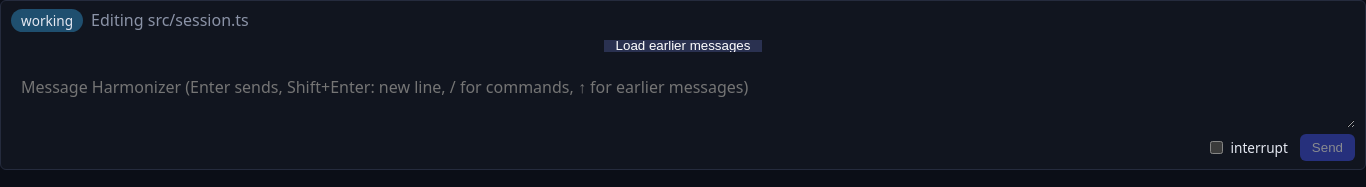
Test: the panel chat (P25-03) › pages back on demand
(page scrolled)
Click the button "Load earlier messages". click: (683, 46)
box: [604,32,762,59]
(page scrolled)
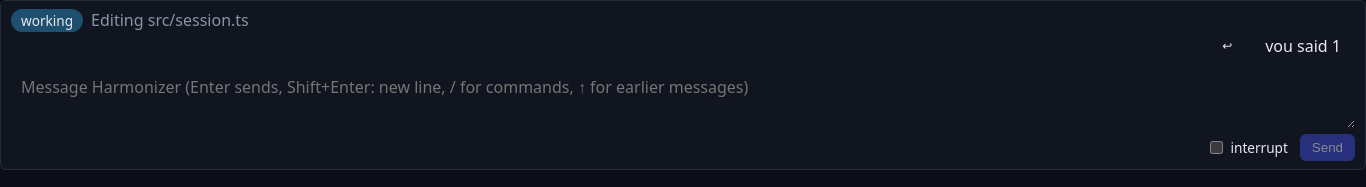
Expected: the button "Load earlier messages" is gone
